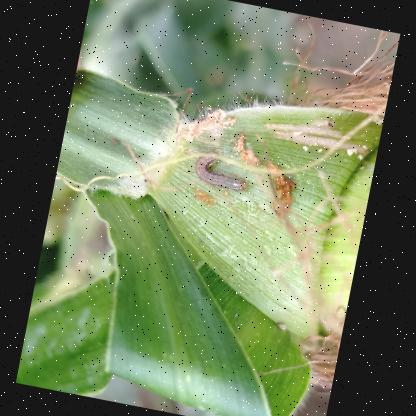Fall Armyworm Larvae: (190, 144, 255, 196)
